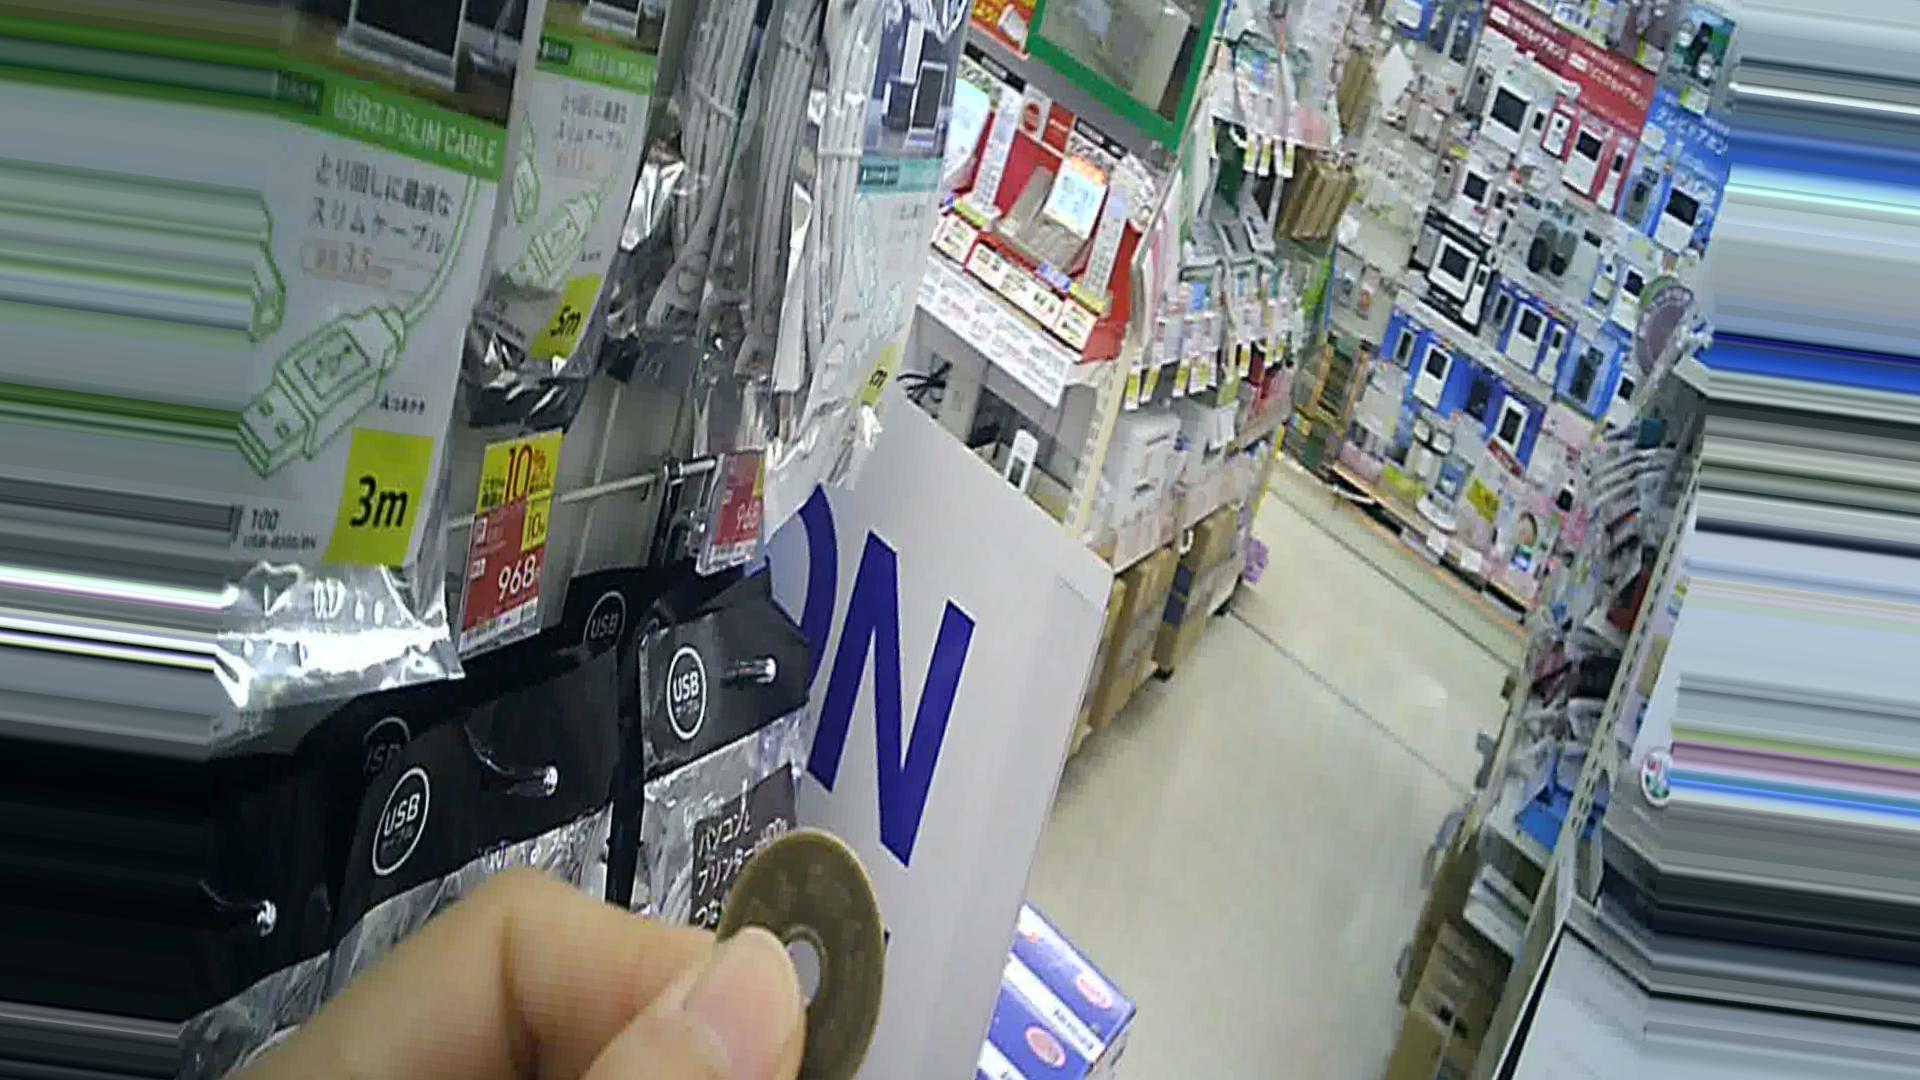5 Yen: (711, 829, 877, 1063)
